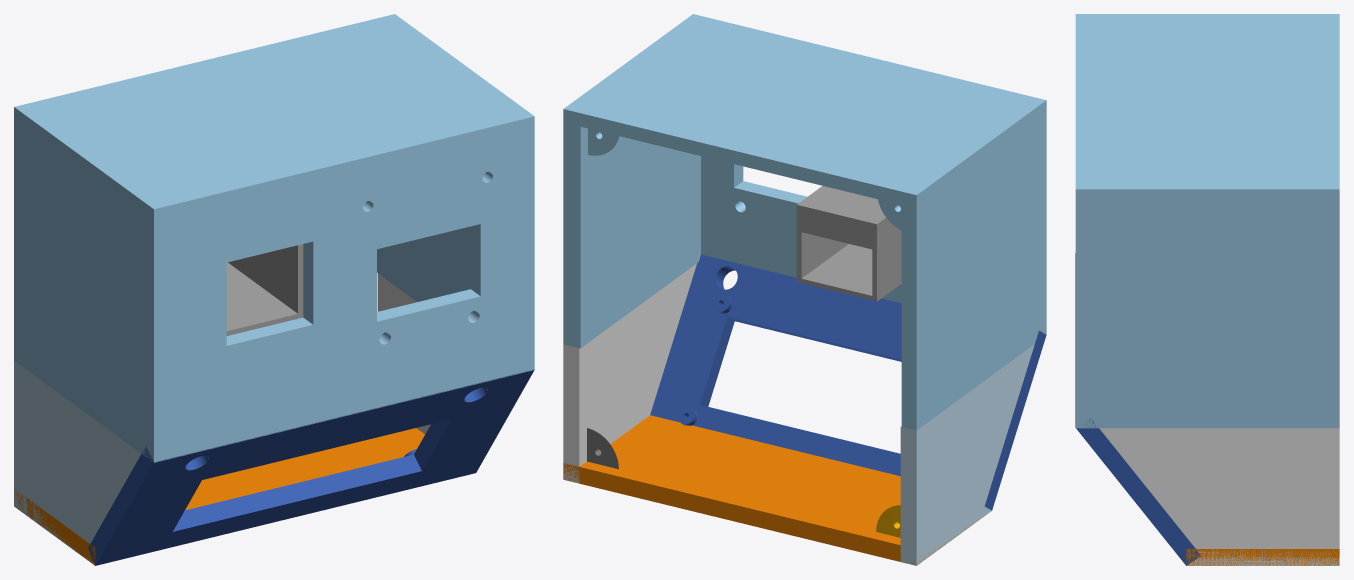
The model's file is attendance with rfid.obj.
3 renders of one model, left to right at view 1: azimuth 30°, elevation 25°; view 2: azimuth 150°, elevation 25°; view 3: azimuth 270°, elevation 25°, orthographic. The views are drawn at different scales.
Visible parts, largest first — view 1: mesh29, mesh26, mesh25, mesh48, mesh3, mesh91, mesh17, mesh52, mesh75, mesh78, mesh50, mesh87 (+7 smaller); view 2: mesh26, mesh25, mesh46, mesh17, mesh91, mesh3, mesh23, mesh9, mesh28, mesh88, mesh74, mesh1 (+11 smaller); view 3: mesh27, mesh26, mesh10, mesh47, mesh89.
Boxes of the visible parts, x1,y1,x2,y2 form: mesh29: [154, 116, 534, 462]; mesh26: [14, 14, 534, 209]; mesh25: [14, 107, 153, 461]; mesh48: [95, 370, 534, 565]; mesh3: [14, 361, 140, 564]; mesh91: [185, 428, 424, 510]; mesh17: [377, 226, 470, 301]; mesh52: [173, 454, 421, 531]; mesh75: [226, 262, 297, 330]; mesh78: [228, 245, 297, 313]; mesh50: [88, 447, 153, 565]; mesh87: [14, 489, 95, 565]; mesh26: [564, 14, 1045, 194]; mesh25: [916, 100, 1046, 429]; mesh46: [650, 254, 901, 476]; mesh17: [580, 127, 700, 347]; mesh91: [580, 415, 900, 544]; mesh3: [916, 344, 1034, 565]; mesh23: [563, 109, 916, 430]; mesh9: [579, 263, 696, 466]; mesh28: [701, 156, 901, 303]; mesh88: [563, 463, 914, 564]; mesh74: [796, 205, 876, 301]; mesh1: [900, 427, 916, 565]; mesh27: [1075, 189, 1339, 428]; mesh26: [1075, 14, 1339, 189]; mesh10: [1099, 428, 1339, 565]; mesh47: [1076, 419, 1200, 565]; mesh89: [1186, 549, 1339, 565].
Bounding box in the file's own units: 0.11 × 0.1103 × 0.07.
